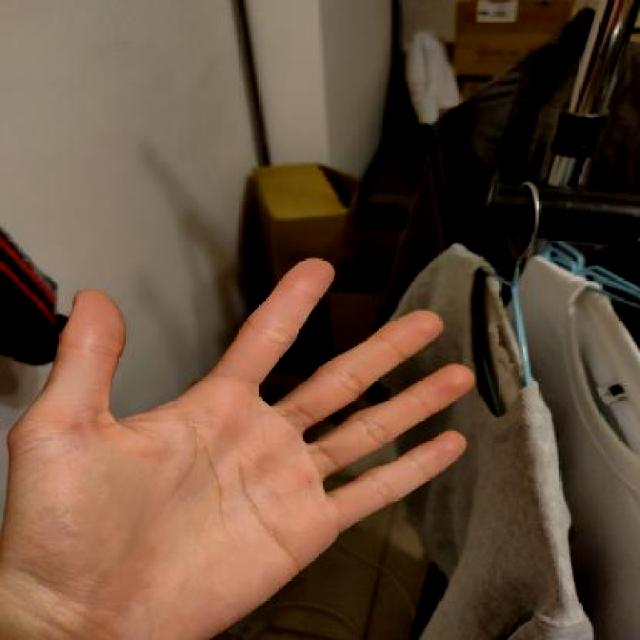no_glove: (1, 244, 497, 638)
